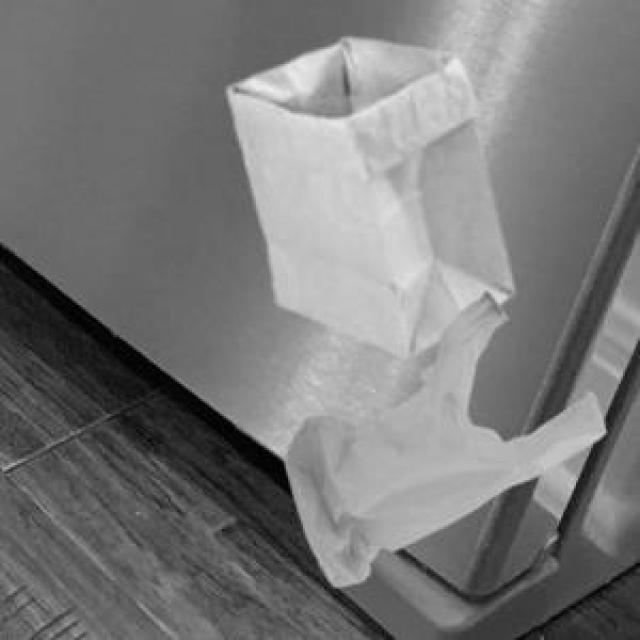paper: (224, 34, 510, 352)
